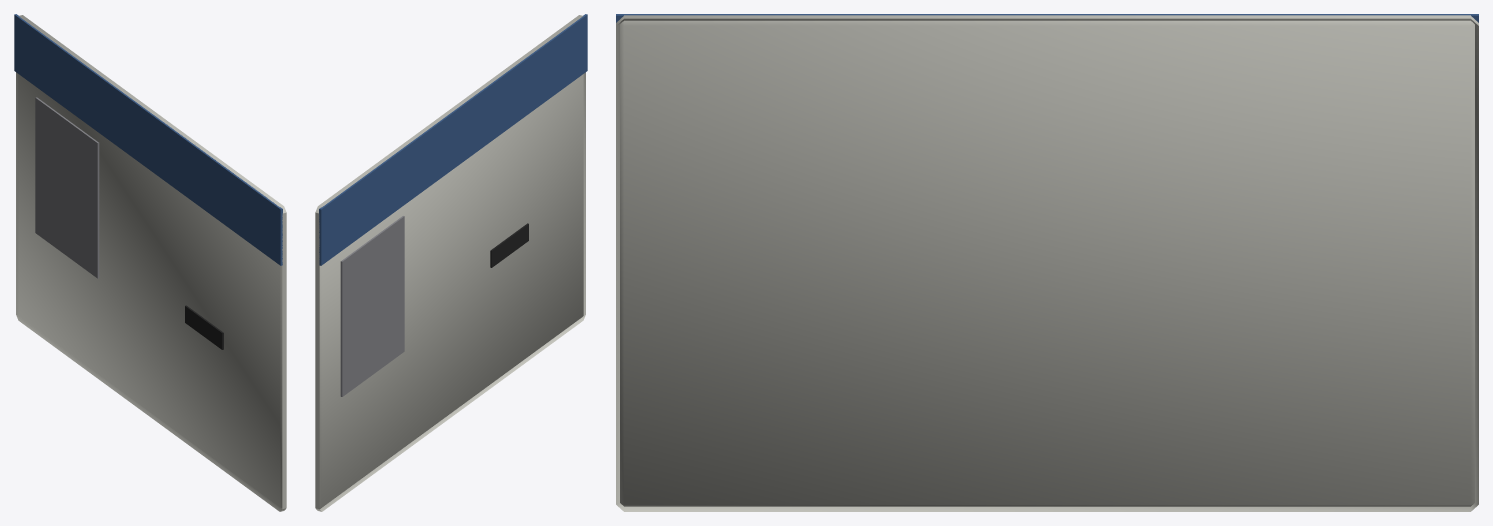
File: item_pass_card_hand.glb
3 views of the same model, side by side, from view 1: azimuth 30°, elevation 25°; view 2: azimuth 150°, elevation 25°; view 3: azimuth 270°, elevation 25° (orthographic). The views are drawn at different scales.
Visible parts, largest first — view 1: pass_card; view 2: pass_card; view 3: pass_card.
Part boxes in pixels (box(x1,y1,x2,y2)): pass_card: box(14, 14, 286, 511); pass_card: box(315, 14, 587, 511); pass_card: box(616, 14, 1478, 511).
Size of the model in its own units: 0.0011 by 0.054 by 0.0856.
